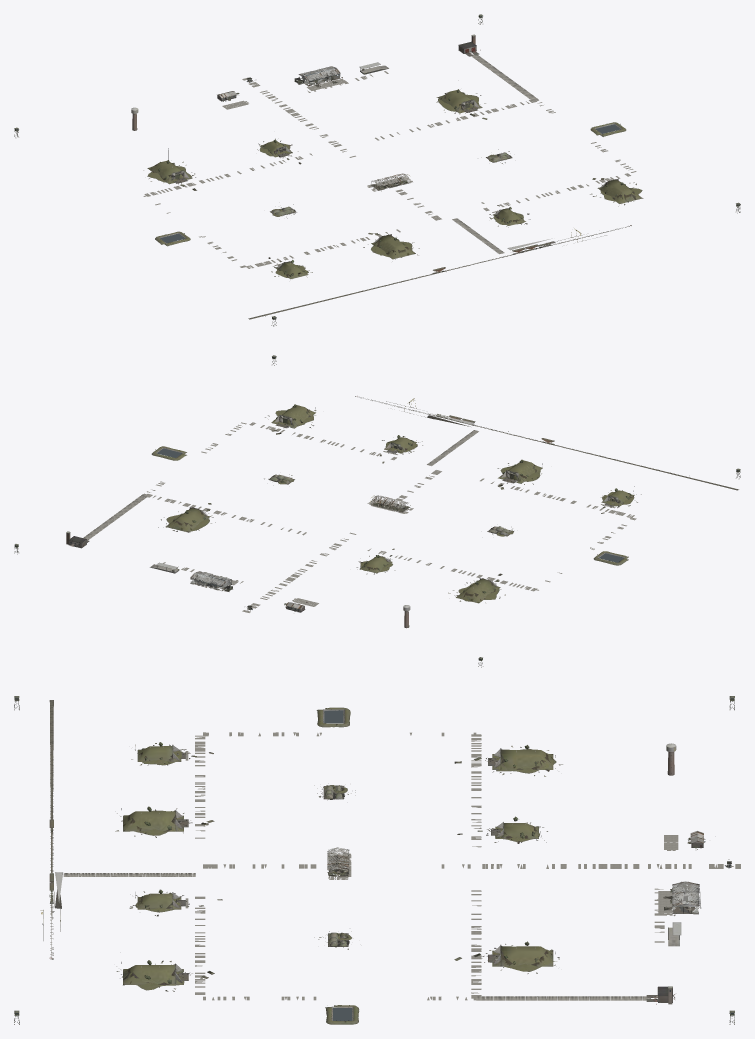
Rendered from site_ammo_city_lo.glb.
3 views of the same model, one above another, from view 1: azimuth 30°, elevation 25°; view 2: azimuth 150°, elevation 25°; view 3: azimuth 270°, elevation 25° (orthographic). The views are drawn at different scales.
Parts seen in each view (by area): view 1: deco_roads|tile_conc, deco_rail|A_A, deco_roads2|tile_conc, b_mag1|A_A, b_mag3|A_A; view 2: deco_roads|tile_conc, deco_rail|A_A, deco_roads2|tile_conc, b_mag5|A_A, b_mag7|A_A; view 3: deco_roads|tile_conc, deco_roads2|tile_conc, deco_rail|A_A, b_mag5|A_A, b_mag7|A_A, b_mag3|A_A, b_mag1|A_A, b_shop|A_A, b_mag3_ruin|A_B, b_mag6|A_A, b_mag2|A_A, b_mag1_ruin|A_B (+2 smaller).
Boxes of the visible parts, x1,y1,x2,y2 form: deco_roads|tile_conc: [143, 71, 636, 268]; deco_rail|A_A: [248, 225, 631, 319]; deco_roads2|tile_conc: [452, 54, 538, 254]; b_mag1|A_A: [148, 148, 191, 183]; b_mag3|A_A: [438, 89, 481, 112]; deco_roads|tile_conc: [144, 422, 636, 612]; deco_rail|A_A: [355, 396, 738, 490]; deco_roads2|tile_conc: [83, 430, 478, 540]; b_mag5|A_A: [500, 459, 542, 483]; b_mag7|A_A: [273, 404, 315, 428]; deco_roads|tile_conc: [185, 732, 740, 1000]; deco_roads2|tile_conc: [63, 873, 650, 1000]; deco_rail|A_A: [40, 700, 62, 959]; b_mag5|A_A: [120, 806, 188, 831]; b_mag7|A_A: [121, 960, 188, 985]; b_mag3|A_A: [488, 941, 555, 966]; b_mag1|A_A: [488, 745, 555, 769]; b_shop|A_A: [663, 881, 701, 915]; b_mag3_ruin|A_B: [454, 944, 559, 973]; b_mag6|A_A: [135, 889, 185, 909]; b_mag2|A_A: [491, 816, 541, 838]; b_mag1_ruin|A_B: [454, 746, 562, 776].
Size of the model in its own units: 528 by 23.8 by 500.
Materials: 54 (39 with a texture image).
